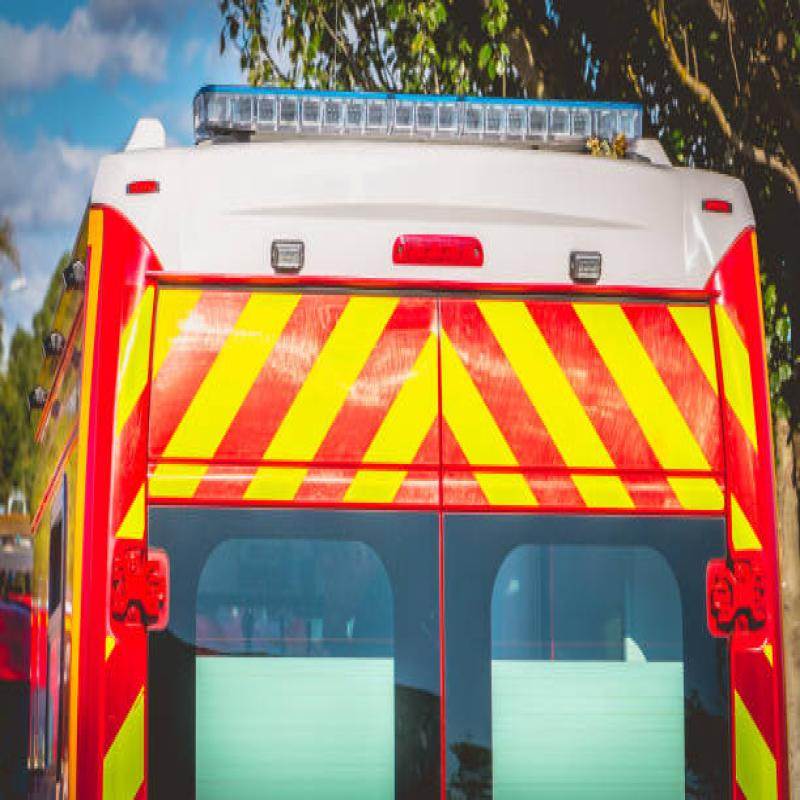AmbulanceSiren: (182, 43, 656, 182)
